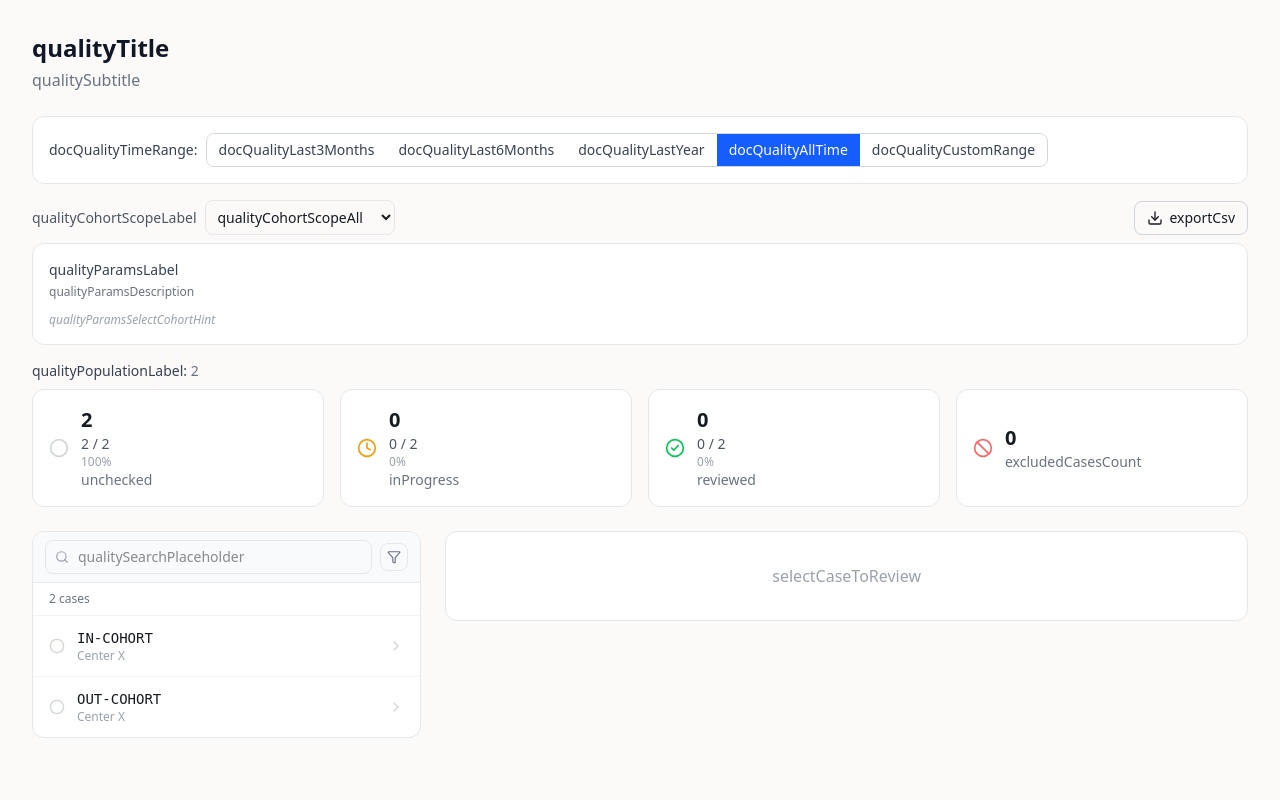
Test case: QualityPage — CR-01 regression: flaggedQuality cohort wire-form round-trip › scopes case list to flaggedCaseIds members when flaggedQuality cohort is selected
Check: the text "IN-COHORT" is shown, box [77,628,153,648]
Check: the text "OUT-COHORT" is shown, box [77,689,161,709]
Select the flaggedQuality cohort
Select "Flagged Quality Cohort" in the dropdown at (300, 218), box [204,200,394,235]
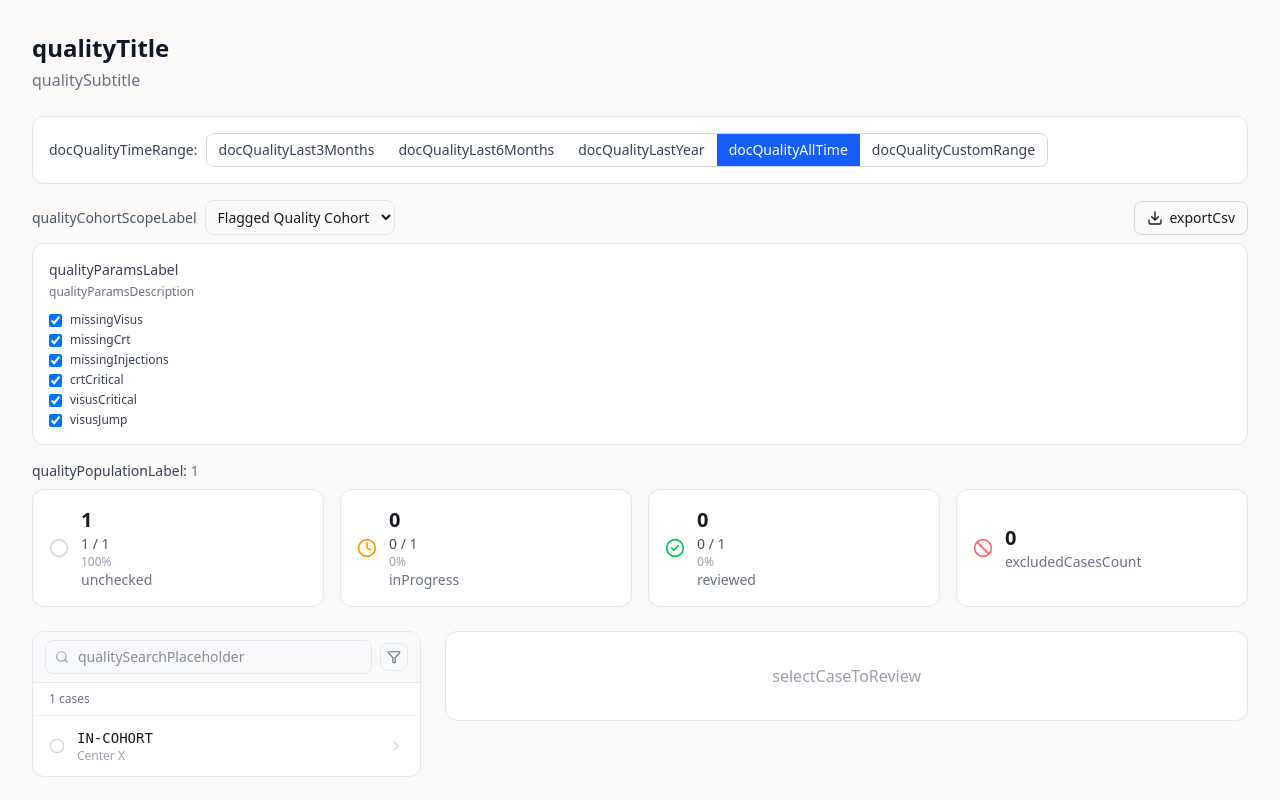
Check: the text "IN-COHORT" is shown, box [77,728,153,748]
Check: the button "OUT-COHORT" is gone
